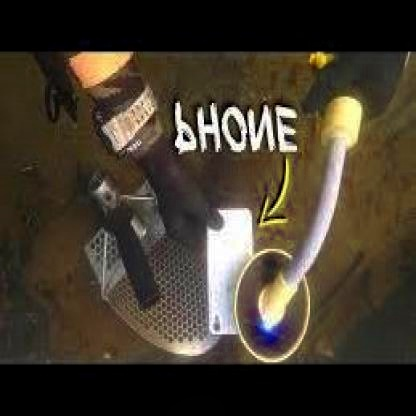cellphone: (207, 212, 254, 341)
